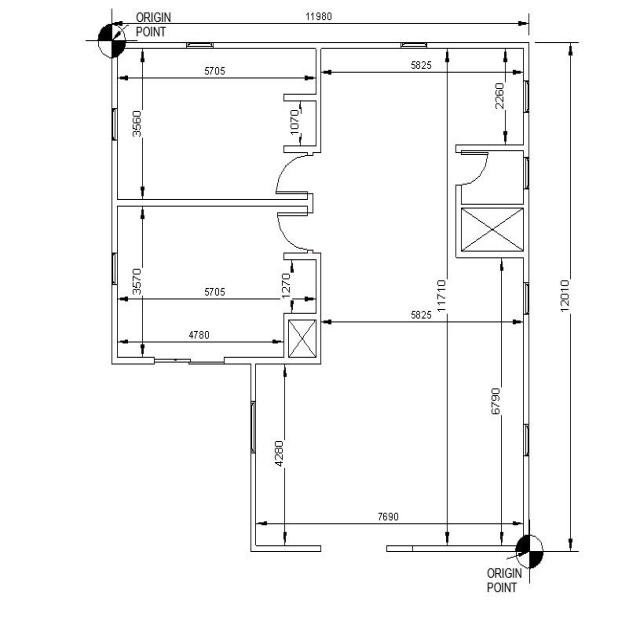Column: (523, 535, 530, 552), (515, 545, 523, 552)
Door: (276, 152, 314, 200), (278, 205, 314, 254), (456, 150, 488, 186)
Sliding Door: (153, 357, 224, 364)
Window: (251, 401, 256, 453), (111, 108, 118, 141), (111, 253, 118, 285), (523, 282, 529, 315), (523, 80, 529, 113), (186, 42, 214, 49), (523, 424, 529, 456), (523, 157, 529, 189), (401, 42, 427, 49)
